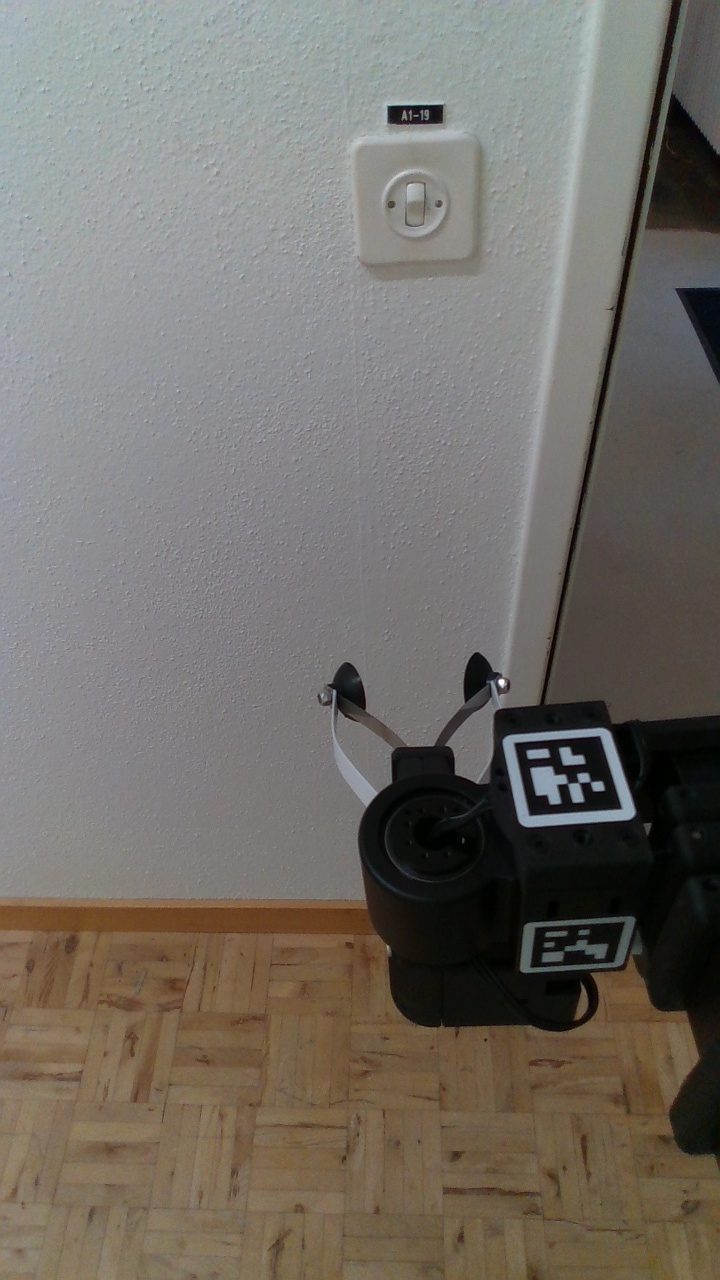Radiator: (352, 137, 480, 260)
